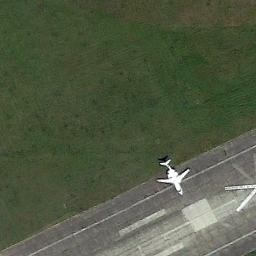Airplane: (156, 152, 190, 196)
